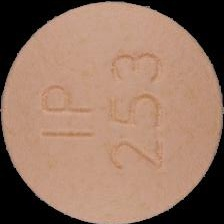50436-0253: (0, 0, 224, 224)
